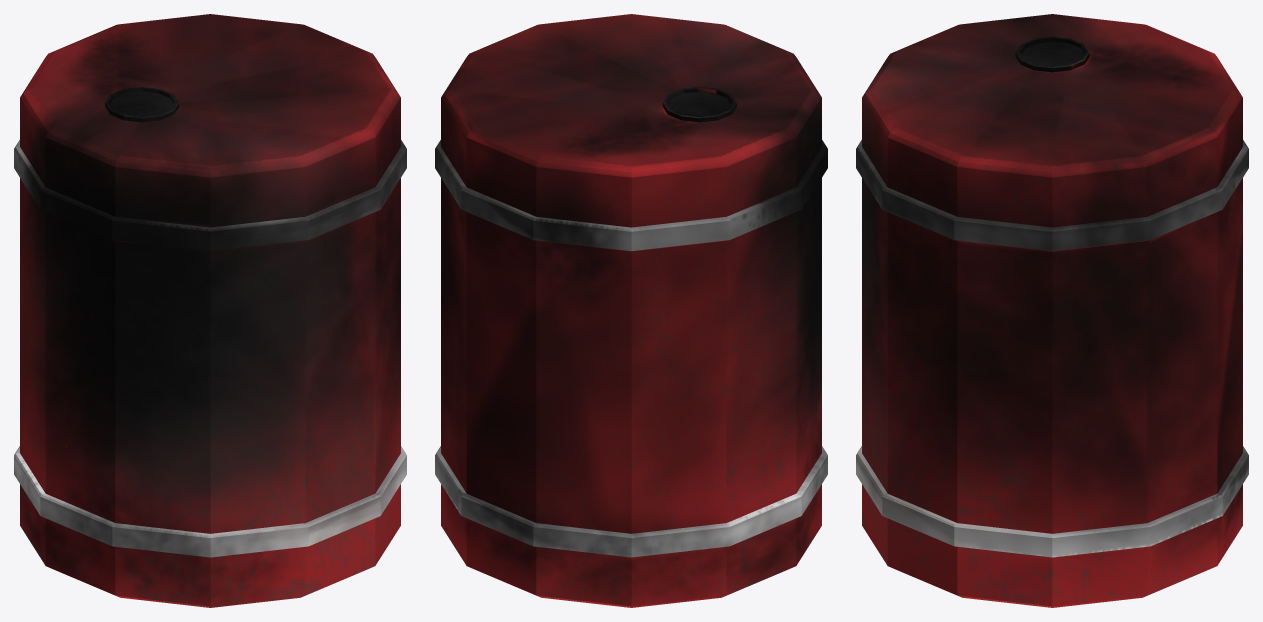
File: barrel.fbx
The picture shows the model from 3 angles, left to right: view 1: azimuth 30°, elevation 25°; view 2: azimuth 150°, elevation 25°; view 3: azimuth 270°, elevation 25°; orthographic projection.
Visible parts, largest first — view 1: Cylinder; view 2: Cylinder; view 3: Cylinder.
Boxes of the visible parts, bbox=[...] form: Cylinder: bbox=[14, 14, 406, 607]; Cylinder: bbox=[435, 14, 827, 607]; Cylinder: bbox=[856, 14, 1248, 607].
Size of the model in its own units: 206 by 259 by 206.
1 material, 1 textured.
